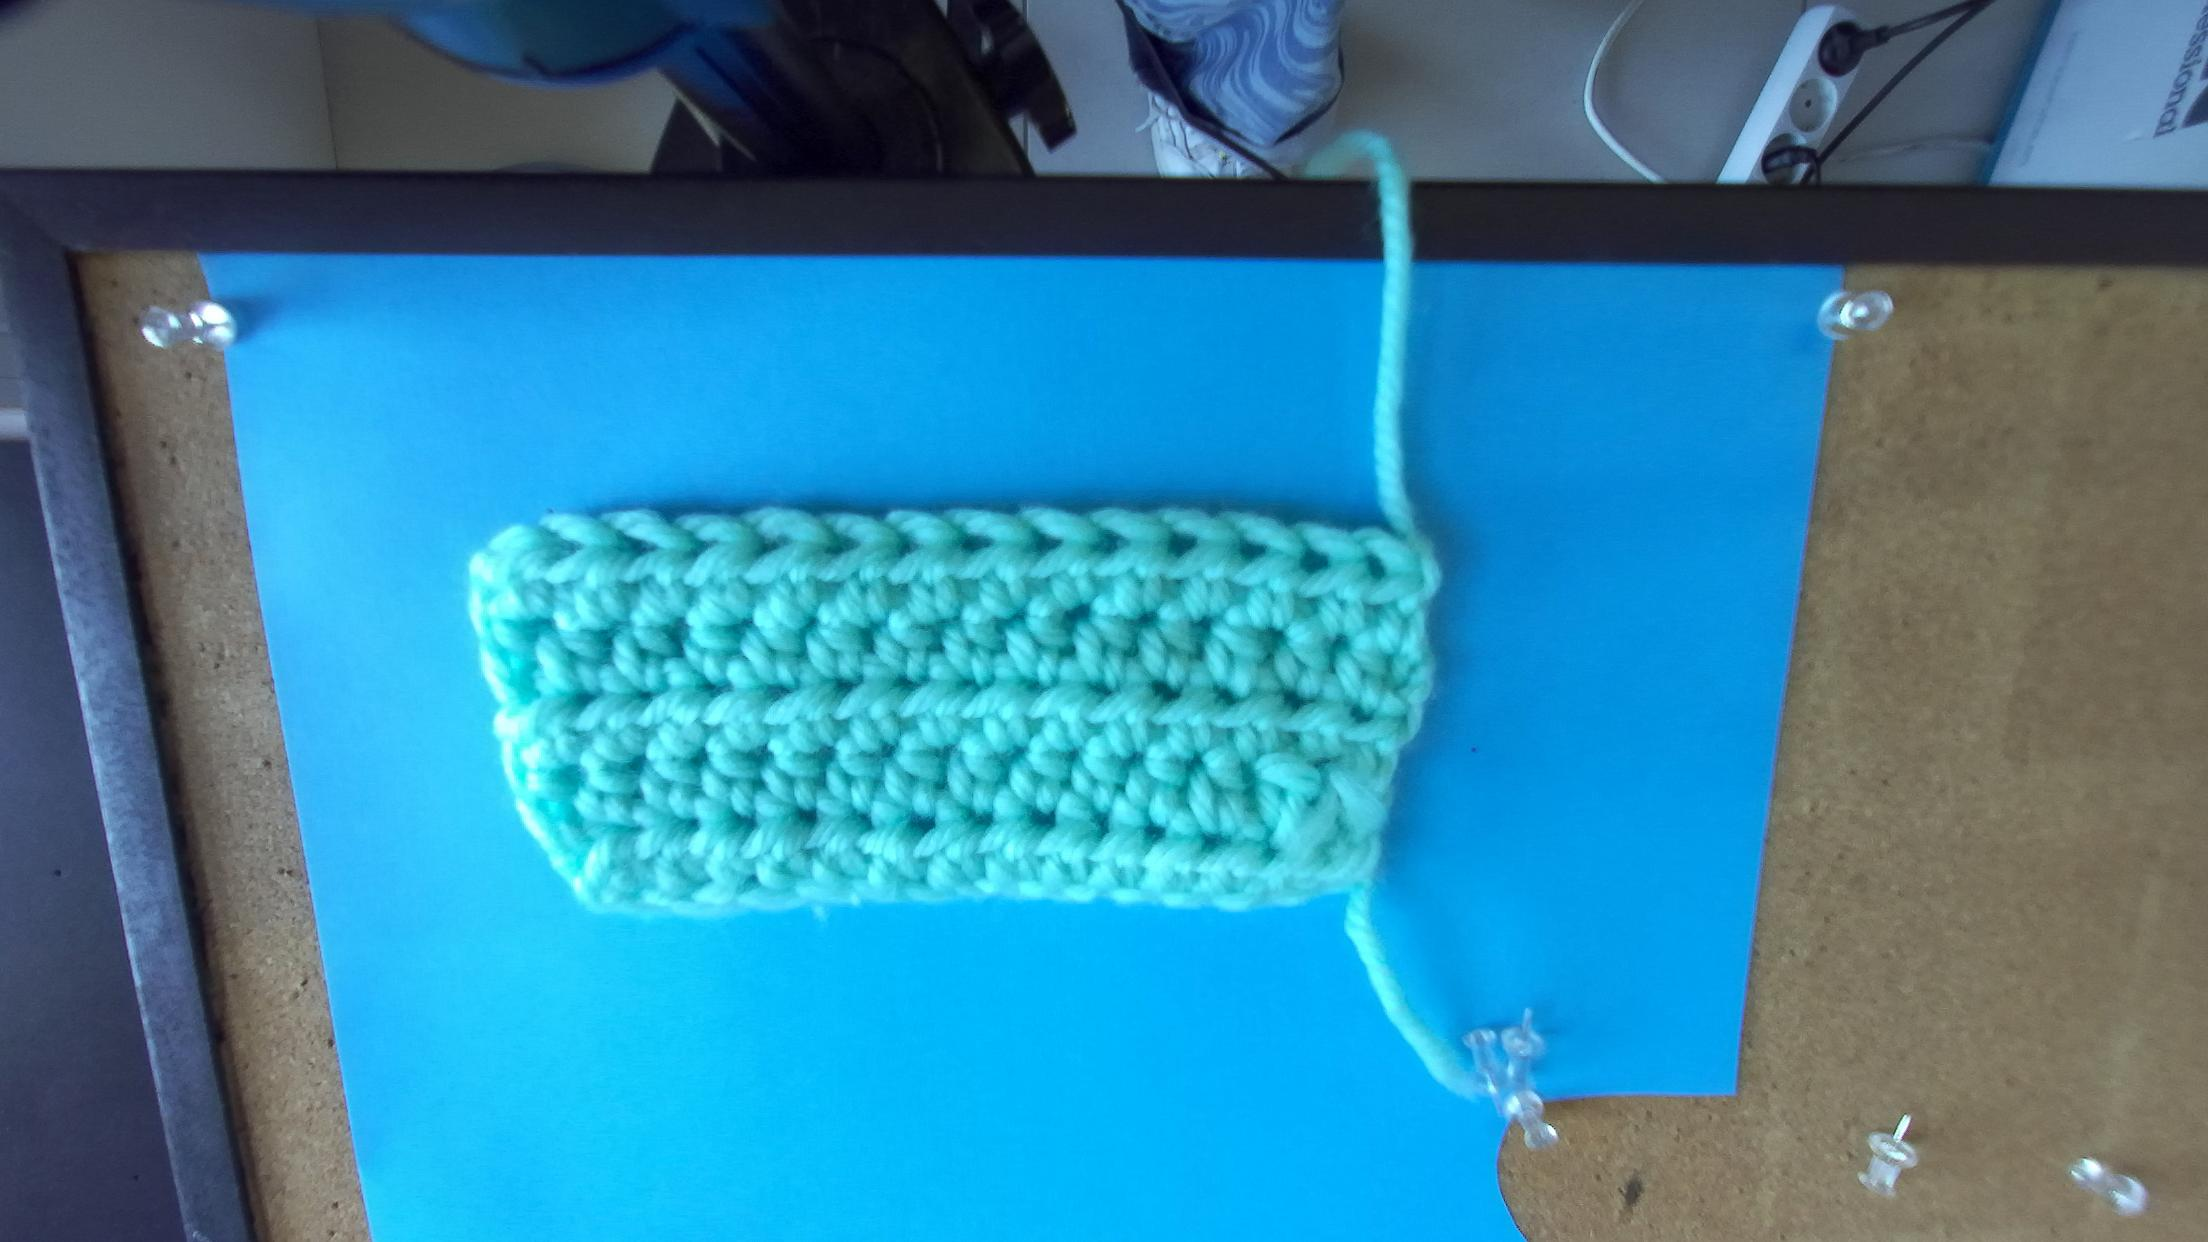hole: (541, 531, 587, 569), (610, 531, 661, 561), (752, 531, 795, 558), (1297, 544, 1333, 576), (1027, 526, 1065, 557), (684, 534, 723, 561), (1236, 534, 1272, 561), (1095, 528, 1130, 552), (893, 531, 924, 558), (1166, 532, 1197, 560), (823, 532, 861, 554), (1363, 550, 1388, 581), (957, 534, 995, 550)
swatch: (463, 507, 1444, 917)
